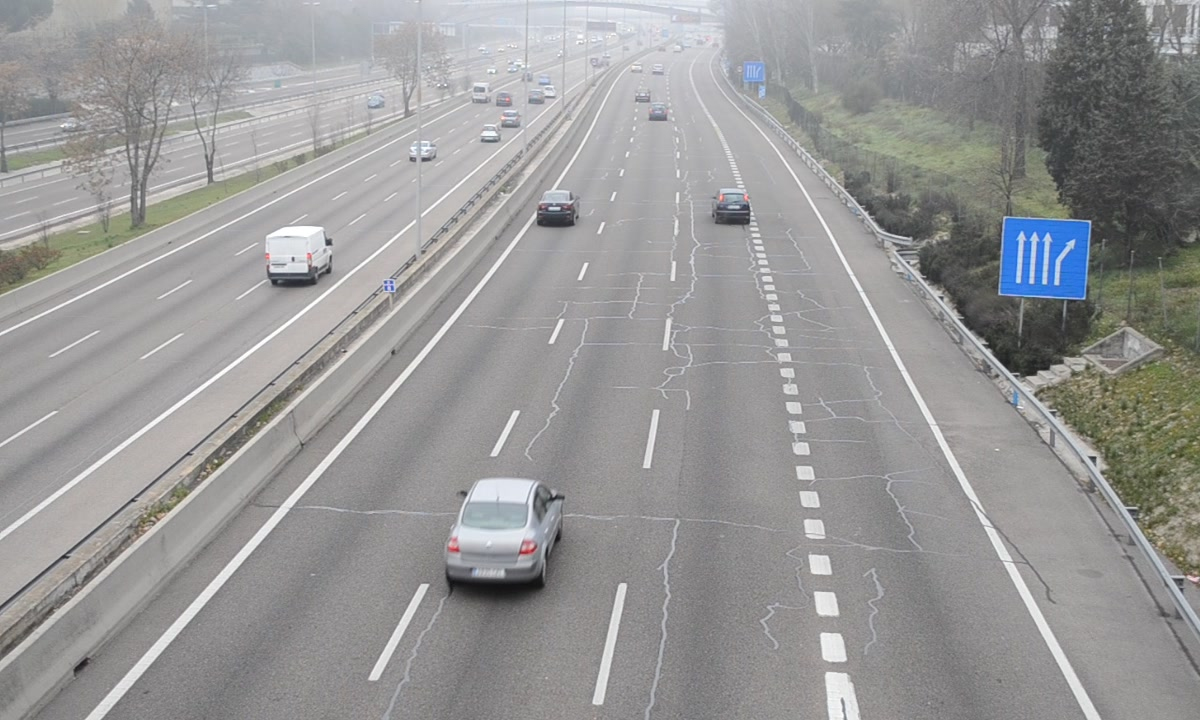car: (447, 478, 562, 589), (536, 190, 580, 227), (713, 187, 751, 224)
